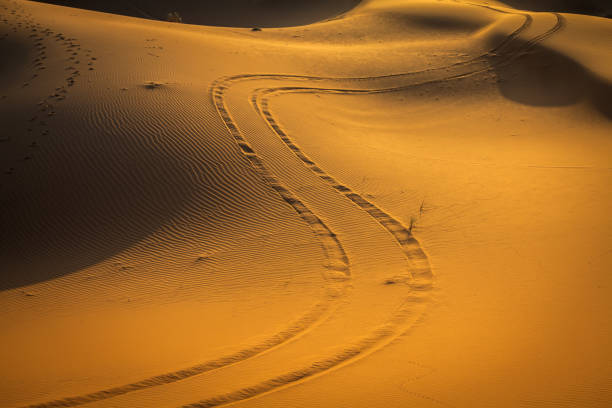vehicle_track: (211, 13, 563, 289)
